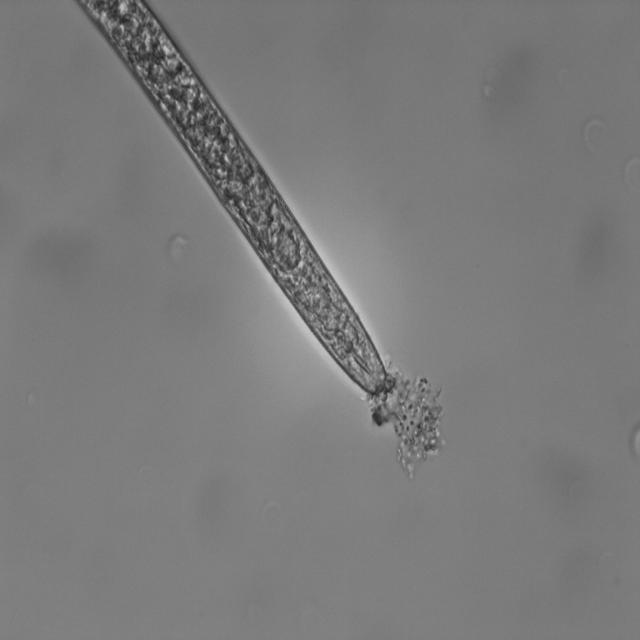Pratylenchus: (59, 0, 397, 408)
